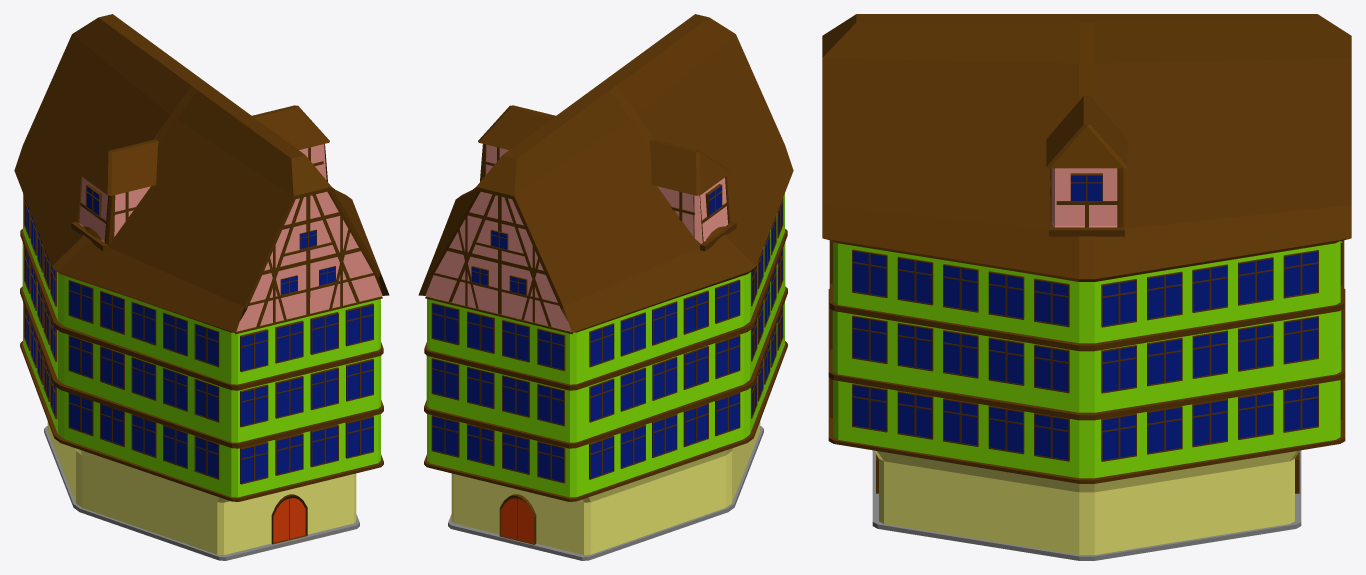
3 views of the same model, side by side, from view 1: azimuth 30°, elevation 25°; view 2: azimuth 150°, elevation 25°; view 3: azimuth 270°, elevation 25° (orthographic). The views are drawn at different scales.
Parts seen in each view (by area): view 1: Cube.053_Cube.012; view 2: Cube.053_Cube.012; view 3: Cube.053_Cube.012.
Part boxes in pixels (left/top/right/bottom): Cube.053_Cube.012: left=14, top=14, right=389, bottom=560; Cube.053_Cube.012: left=418, top=14, right=793, bottom=560; Cube.053_Cube.012: left=822, top=14, right=1351, bottom=560.
Size of the model in its own units: 0.2113 by 0.2698 by 0.2757.
